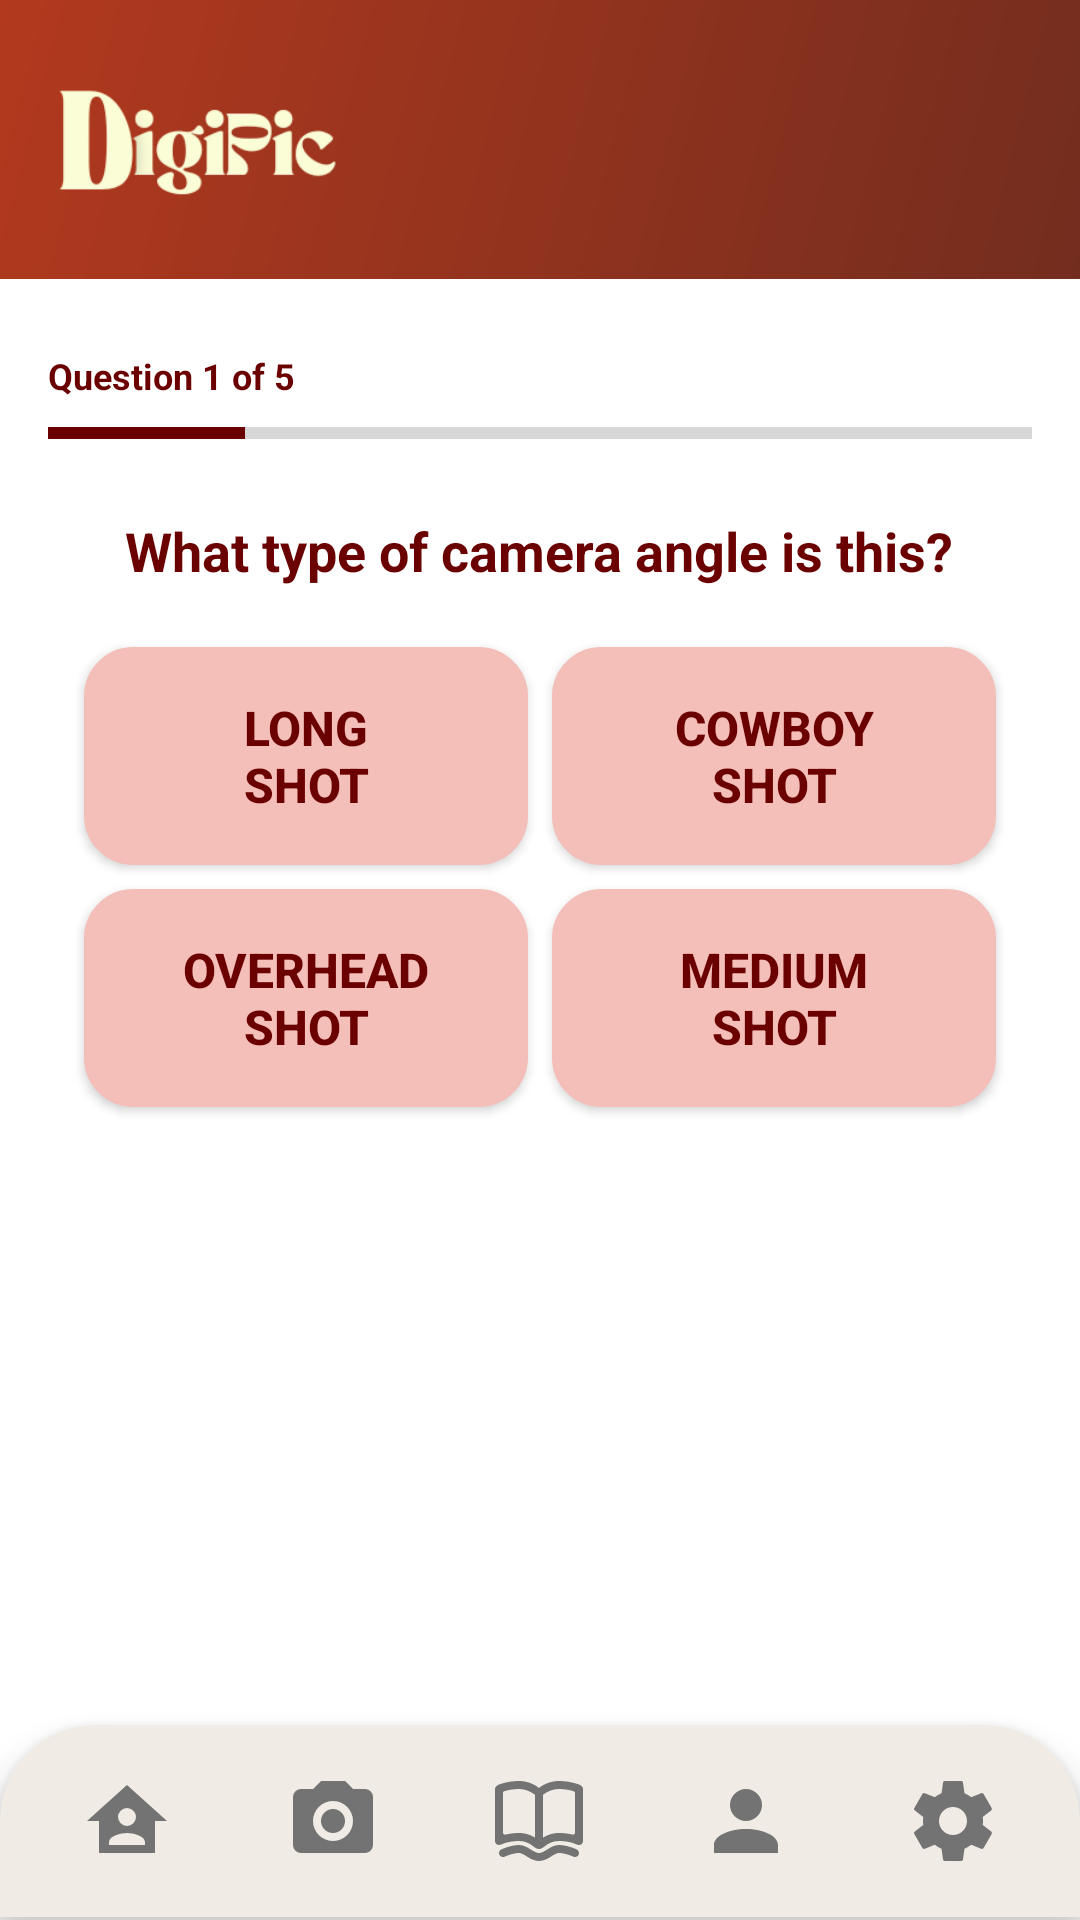

Icon bounding boxes for this 1080*1920 phone screenshot, format (x1,y1,x2,y2):
Home: (87,1785,167,1853)
Profile: (714,1789,778,1853)
Settings: (914,1781,992,1861)
